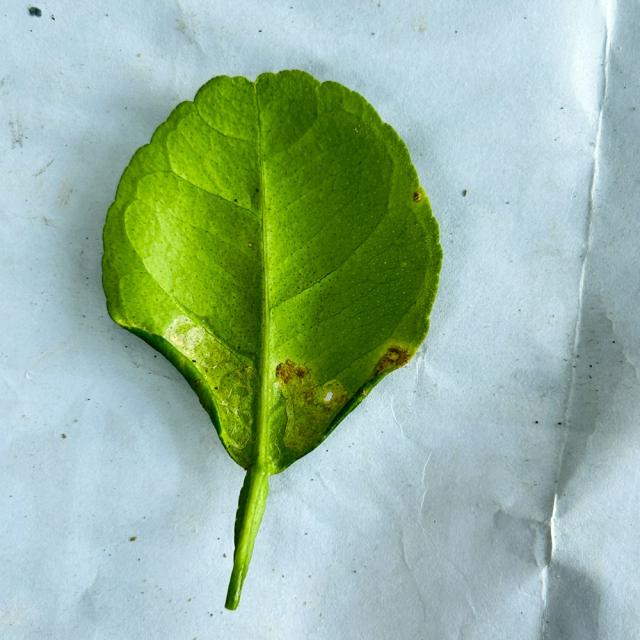Anthracnose: (276, 358, 351, 453), (275, 360, 313, 392), (297, 387, 333, 419), (314, 379, 348, 412), (374, 346, 411, 374), (275, 359, 307, 385), (386, 347, 404, 363), (272, 377, 288, 395), (294, 365, 308, 378), (285, 359, 299, 370), (304, 391, 315, 403), (244, 365, 253, 375), (413, 191, 421, 202), (323, 405, 331, 413), (360, 390, 368, 397), (242, 464, 250, 471), (194, 379, 201, 386), (247, 242, 254, 248)
Lemon: (100, 69, 444, 611)
